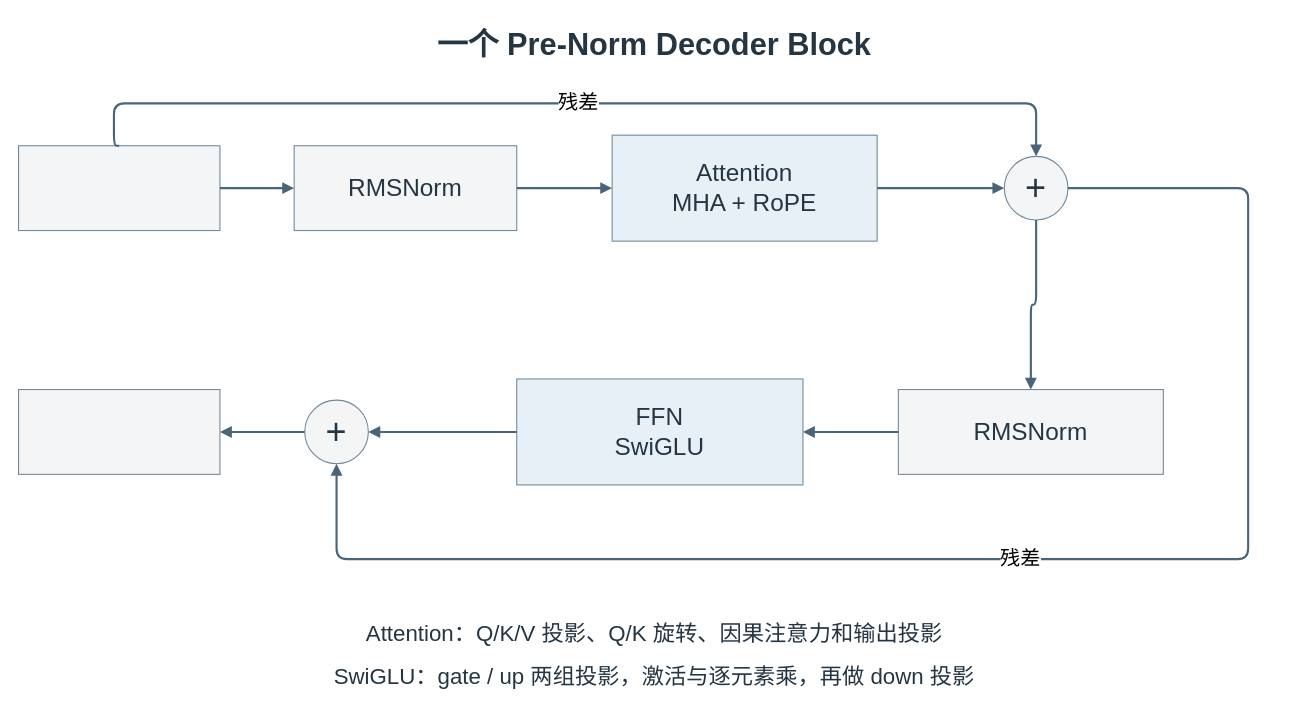
Some shapes in this 1309 by 714 pixel diagram are drawn without their labels. Here are the shapes that lost their labels. From the top down, the box of each, then its label:
(17, 145, 220, 231): 输入 X [B, S, H]
(17, 388, 220, 474): 输出 Y [B, S, H]
